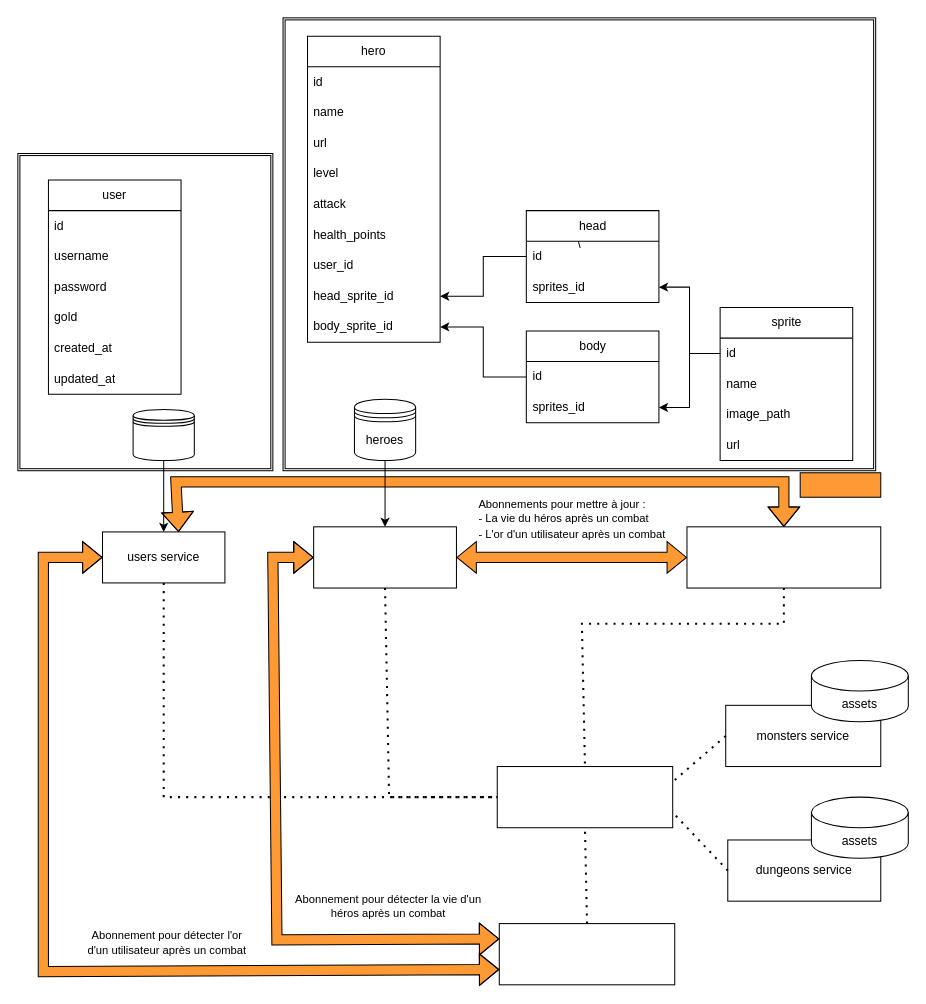
Some shapes in this 926 by 1004 pixel diagram are drawn without their labels. The box of each missing label's shape, as (x1, y1, x2, y2) in pixels:
backend service: (498, 923, 675, 985)
fights service: (686, 526, 881, 588)
frontend service: (496, 766, 673, 828)
heroes service: (313, 526, 456, 588)
RabbitMQ: (799, 472, 881, 497)
users: (132, 409, 194, 461)
